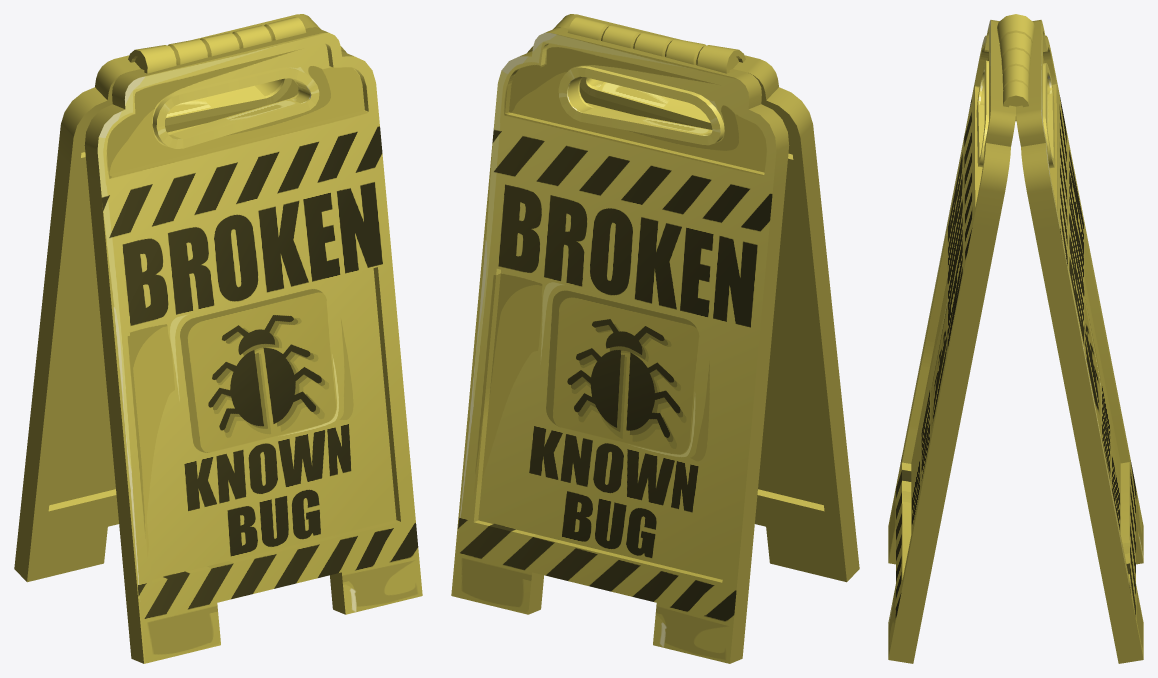
Rendered from SIGN.fbx.
The picture shows the model from 3 angles, left to right: view 1: azimuth 30°, elevation 25°; view 2: azimuth 150°, elevation 25°; view 3: azimuth 270°, elevation 25°; orthographic projection.
Parts seen in each view (by area): view 1: SIGN; view 2: SIGN; view 3: SIGN.
Part boxes in pixels (<box>): SIGN: <box>14,14,422,663</box>; SIGN: <box>451,14,859,663</box>; SIGN: <box>888,14,1143,663</box>.
Bounding box in the file's own units: 0.5171 × 0.9839 × 0.4174.
1 material, 1 textured.
